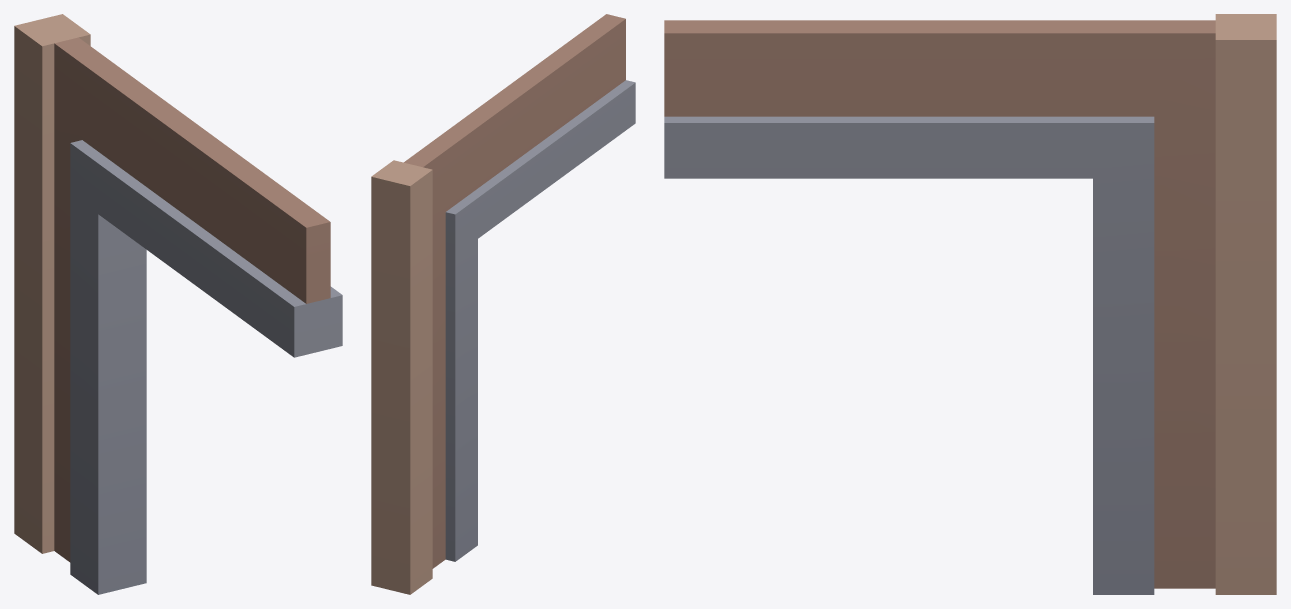
Rendered from wall-wood-doorway-square-wide.glb.
3 views of the same model, side by side, from view 1: azimuth 30°, elevation 25°; view 2: azimuth 150°, elevation 25°; view 3: azimuth 270°, elevation 25° (orthographic). The views are drawn at different scales.
Parts seen in each view (by area): view 1: wall-wood-doorway-square-wide; view 2: wall-wood-doorway-square-wide; view 3: wall-wood-doorway-square-wide.
Boxes of the visible parts, <box> form: wall-wood-doorway-square-wide: <box>14,14,342,594</box>; wall-wood-doorway-square-wide: <box>371,14,635,594</box>; wall-wood-doorway-square-wide: <box>664,14,1276,594</box>.
Size of the model in its own units: 0.1 by 1 by 1.
